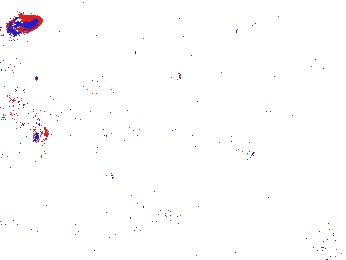red belly glassfish: (5, 14, 42, 37), (287, 59, 327, 77)
